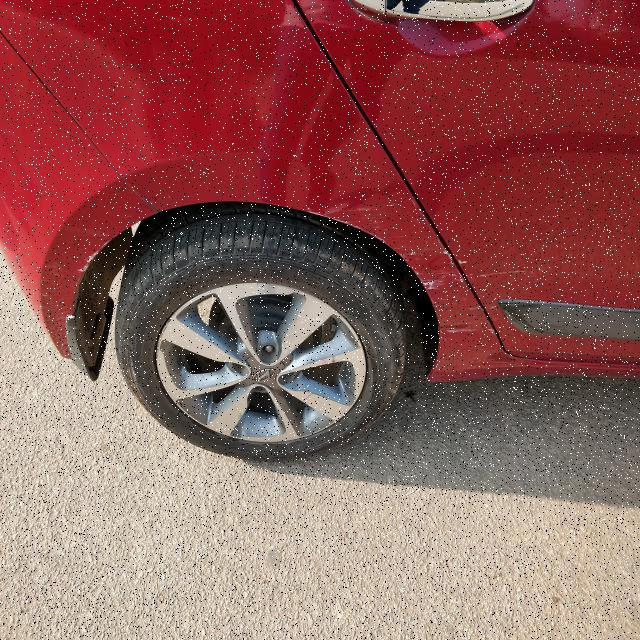quaterpanel-dent: (130, 0, 441, 385)
